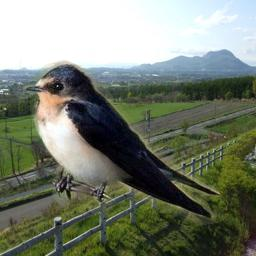Swallow: (23, 60, 220, 225)
